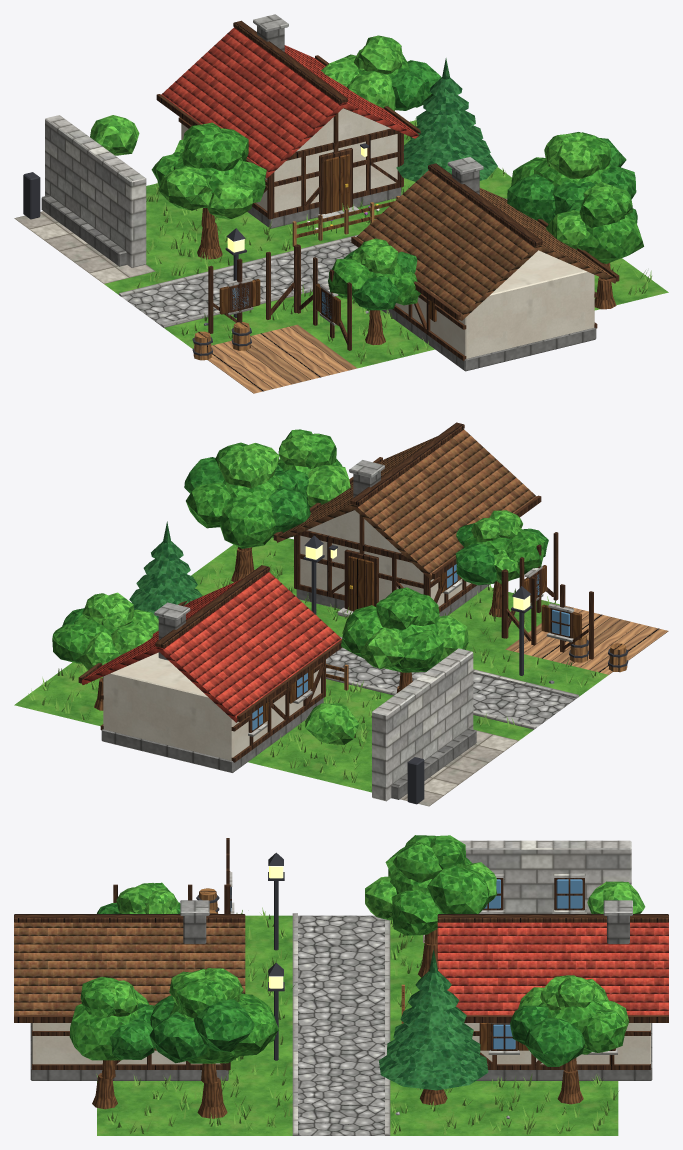
File: chunk_3_2.glb
3 views of the same model, one above another, from view 1: azimuth 30°, elevation 25°; view 2: azimuth 150°, elevation 25°; view 3: azimuth 270°, elevation 25° (orthographic). The views are drawn at different scales.
Visible parts, largest first — view 1: chunk_3_2; view 2: chunk_3_2; view 3: chunk_3_2.
Part boxes in pixels (left/top/right/bottom): chunk_3_2: left=14, top=14, right=668, bottom=393; chunk_3_2: left=14, top=422, right=668, bottom=806; chunk_3_2: left=14, top=835, right=668, bottom=1135.
Size of the model in its own units: 16.68 by 5.16 by 20.1.
27 materials, 19 textured.
